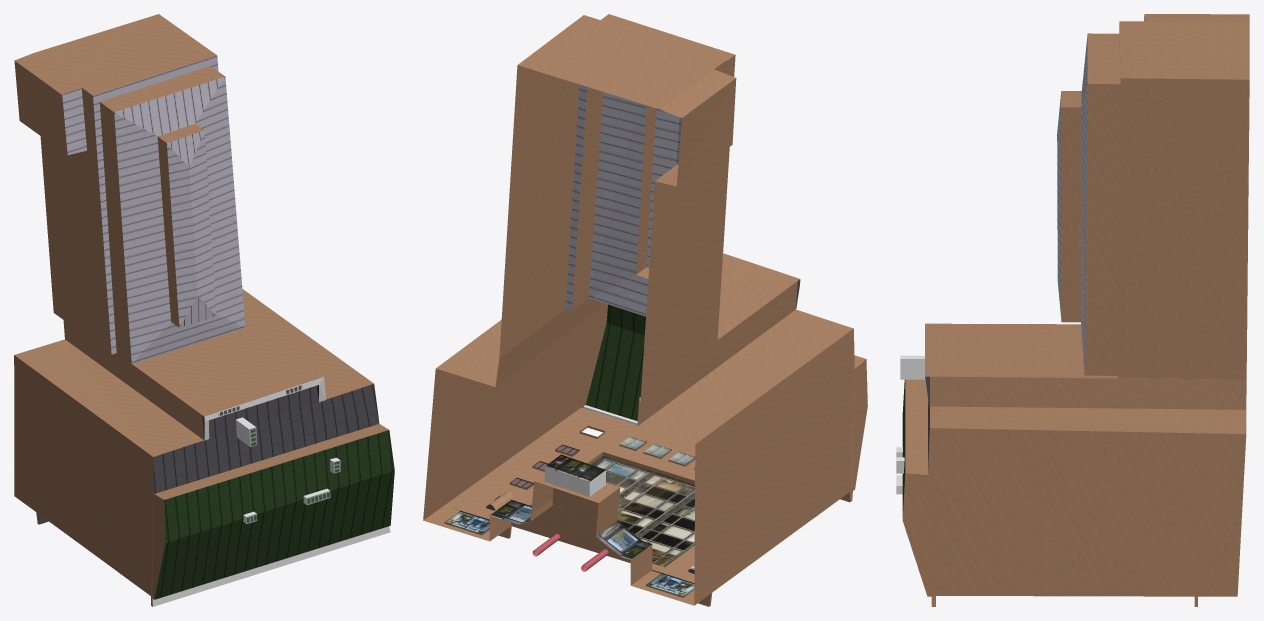
File: Vabaduse8.obj
The picture shows the model from 3 angles, left to right: view 1: azimuth 30°, elevation 25°; view 2: azimuth 150°, elevation 25°; view 3: azimuth 270°, elevation 25°; orthographic projection. The views are drawn at different scales.
Visible parts, largest first — view 1: polySurface3; view 2: polySurface3; view 3: polySurface3.
Boxes of the visible parts, x1,y1,x2,y2 form: polySurface3: (14,14,394,606); polySurface3: (423,14,867,606); polySurface3: (896,14,1249,606).
Size of the model in its own units: 22.46 by 41.25 by 26.08.
